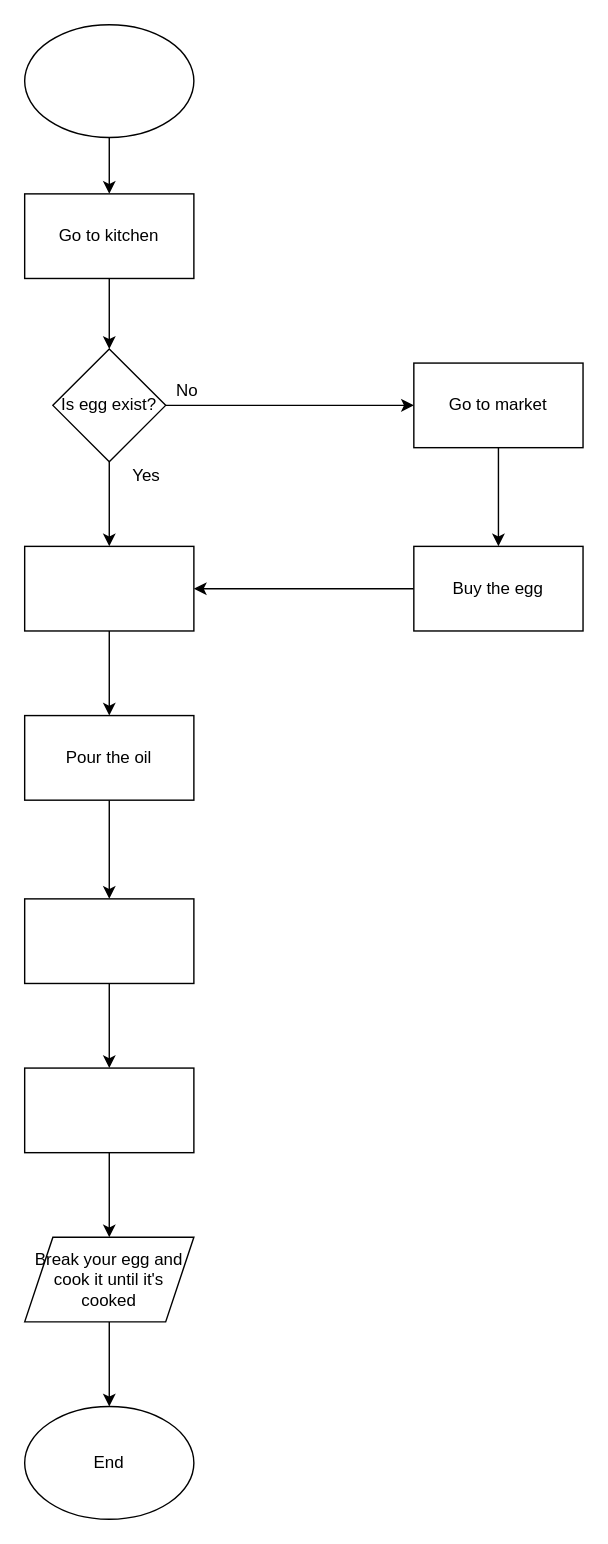
This 608x1544 diagram has some shape labels left out. The centre of each missing label's shape, as x and y in pixels:
"Lit up the stove" goes at point (108, 940).
"Prepare the friyer" goes at point (108, 588).
"Start" goes at point (108, 80).
"Wait until the oil's getting hot" goes at point (108, 1110).
